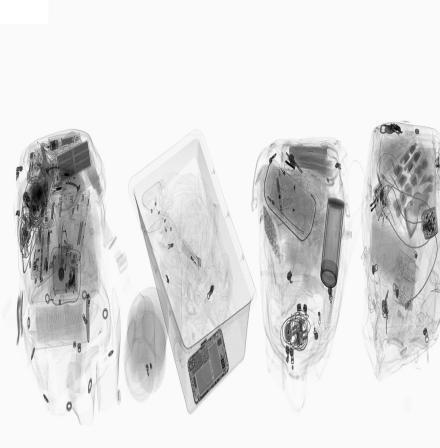Lighter: (181, 238, 203, 272)
